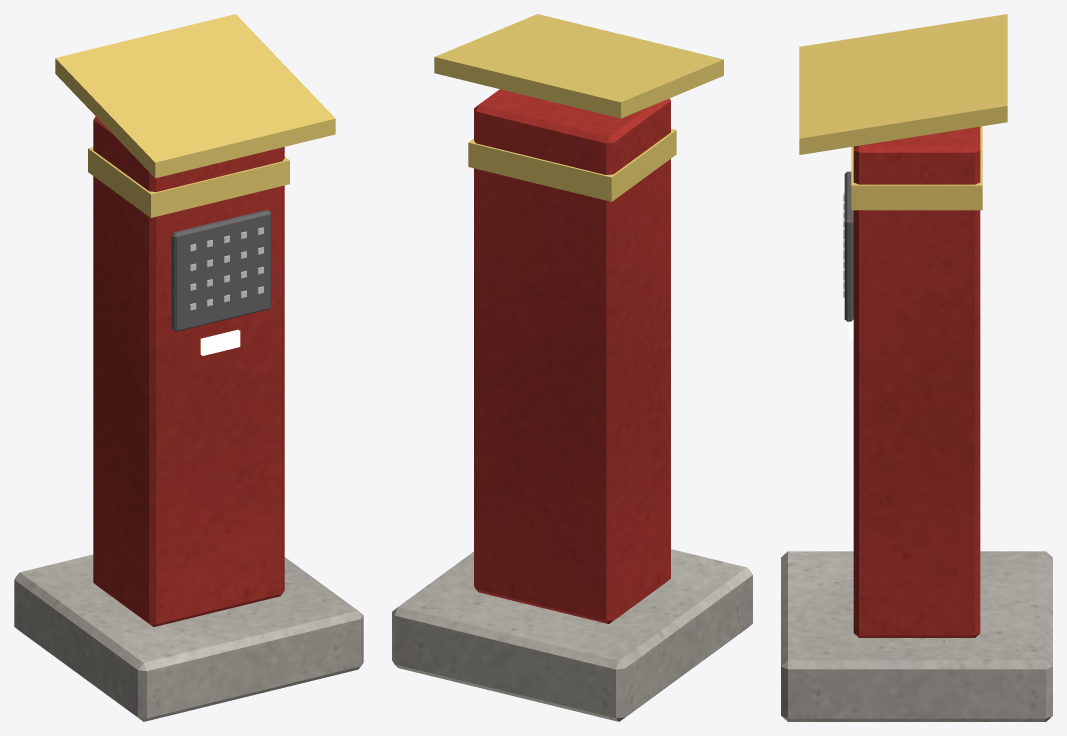
File: dt_speaker.glb
3 views of the same model, side by side, from view 1: azimuth 30°, elevation 25°; view 2: azimuth 150°, elevation 25°; view 3: azimuth 270°, elevation 25° (orthographic). The views are drawn at different scales.
Visible parts, largest first — view 1: dt_speaker_red, dt_speaker_accent, dt_speaker_concrete, dt_speaker_dark, dt_speaker_steel, dt_speaker_lamp_glass; view 2: dt_speaker_red, dt_speaker_concrete, dt_speaker_accent; view 3: dt_speaker_red, dt_speaker_concrete, dt_speaker_accent, dt_speaker_dark.
Boxes of the visible parts, box(x1,y1,x2,y2) form: dt_speaker_red: box(93, 116, 284, 627); dt_speaker_accent: box(55, 14, 335, 217); dt_speaker_concrete: box(14, 554, 363, 721); dt_speaker_dark: box(171, 209, 271, 331); dt_speaker_steel: box(190, 227, 263, 310); dt_speaker_lamp_glass: box(200, 329, 240, 355); dt_speaker_red: box(474, 89, 670, 623); dt_speaker_concrete: box(392, 549, 752, 721); dt_speaker_accent: box(434, 14, 723, 201); dt_speaker_red: box(853, 126, 980, 637); dt_speaker_concrete: box(781, 551, 1052, 721); dt_speaker_accent: box(799, 14, 1007, 210); dt_speaker_dark: box(844, 171, 853, 321).
Bounding box in the file's own units: 0.6 × 1.48 × 0.6.
Materials: 6 (2 with a texture image).
